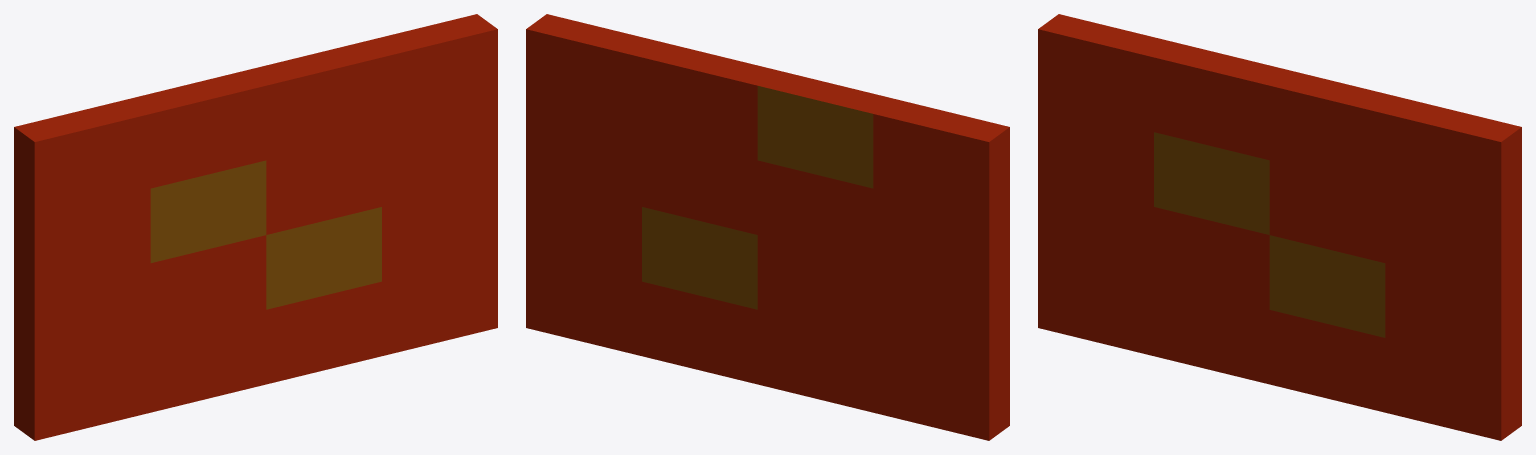
The model's file is simplewall.obj.
3 renders of one model, left to right at view 1: azimuth 30°, elevation 25°; view 2: azimuth 150°, elevation 25°; view 3: azimuth 330°, elevation 25°, orthographic.
Visible parts, largest first — view 1: Cube; view 2: Cube; view 3: Cube.
Boxes of the visible parts, x1=… form: Cube: x1=14, y1=14, x2=497, y2=440; Cube: x1=526, y1=14, x2=1009, y2=440; Cube: x1=1038, y1=14, x2=1521, y2=440.
Size of the model in its own units: 7.34 by 4.53 by 0.5695.
